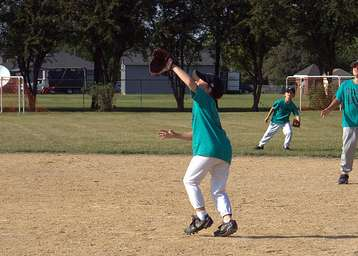Person: (150, 47, 238, 238), (320, 62, 358, 184), (256, 86, 301, 151)
